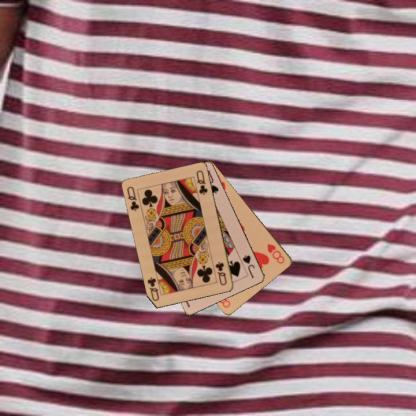8h: (264, 240, 286, 265)
Js: (240, 252, 256, 280)
Qc: (124, 184, 140, 212), (213, 260, 228, 286)
